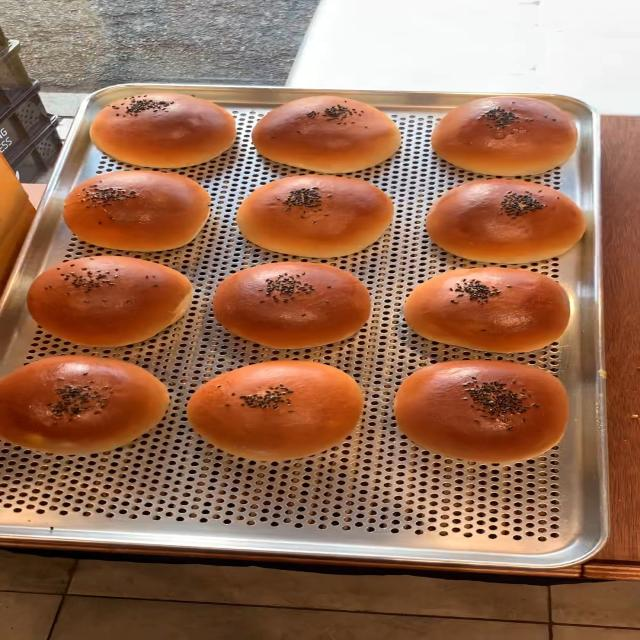bread: (391, 358, 573, 469), (188, 364, 360, 460), (399, 265, 578, 354), (0, 357, 165, 451), (24, 256, 192, 346), (421, 176, 590, 265), (233, 171, 396, 259), (251, 92, 408, 175), (62, 172, 217, 253), (215, 265, 366, 348), (427, 96, 578, 178), (86, 86, 230, 167)
